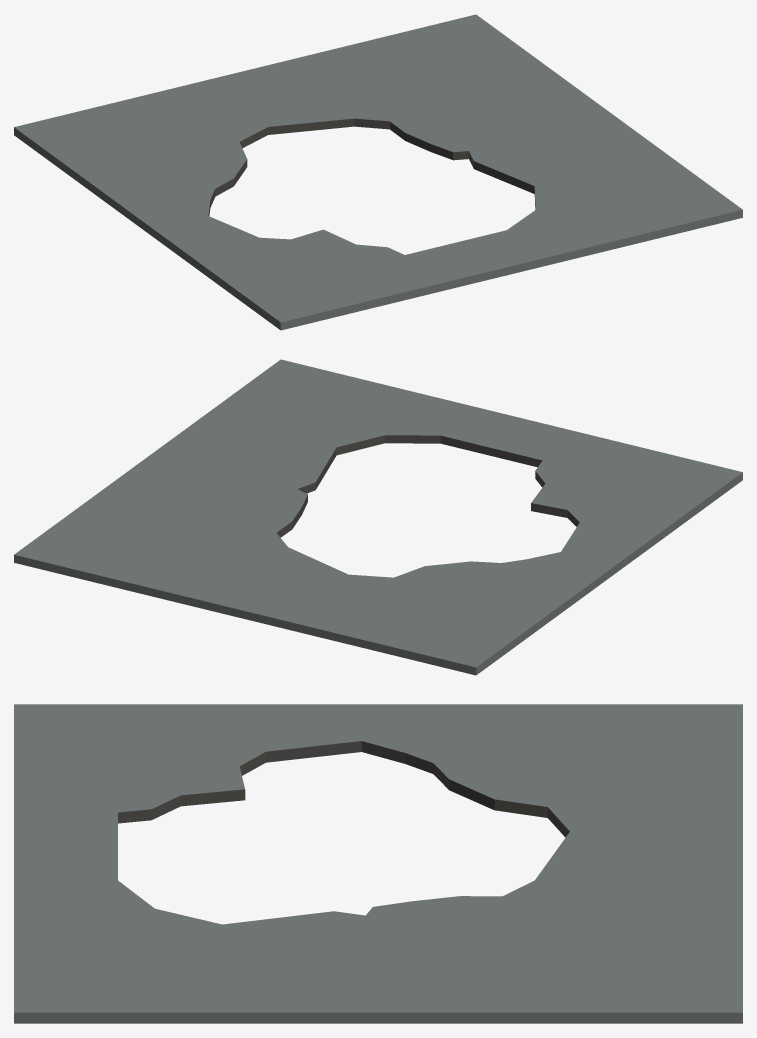
The model's file is SM_Floor_Broken_3x3_B.gltf.
The picture shows the model from 3 angles, top to bottom: view 1: azimuth 30°, elevation 25°; view 2: azimuth 150°, elevation 25°; view 3: azimuth 270°, elevation 25°; orthographic projection. The views are drawn at different scales.
Visible parts, largest first — view 1: SM_Floor_Broken_3x3_B; view 2: SM_Floor_Broken_3x3_B; view 3: SM_Floor_Broken_3x3_B.
Part boxes in pixels (x1,y1,x2,y2): SM_Floor_Broken_3x3_B: (14, 14, 742, 330); SM_Floor_Broken_3x3_B: (14, 359, 742, 675); SM_Floor_Broken_3x3_B: (14, 704, 742, 1023).
Size of the model in its own units: 3 by 0.05 by 3.
Materials: 1 (1 with a texture image).
